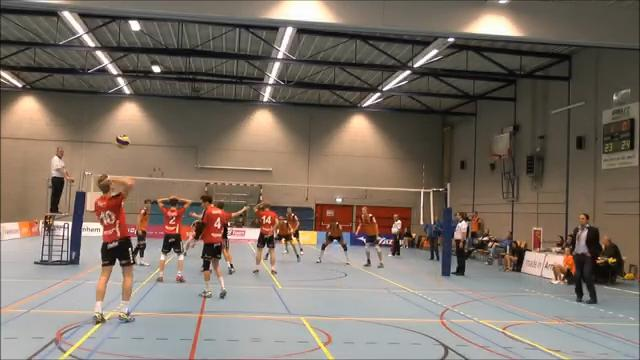Player: (157, 196, 191, 281), (200, 195, 226, 298), (253, 202, 277, 273), (223, 206, 248, 274), (356, 206, 383, 267), (316, 219, 349, 263), (133, 199, 150, 265), (277, 216, 300, 261), (286, 208, 303, 254), (183, 219, 200, 256)
Serve: (84, 168, 141, 330)
ball: (115, 134, 131, 149)
